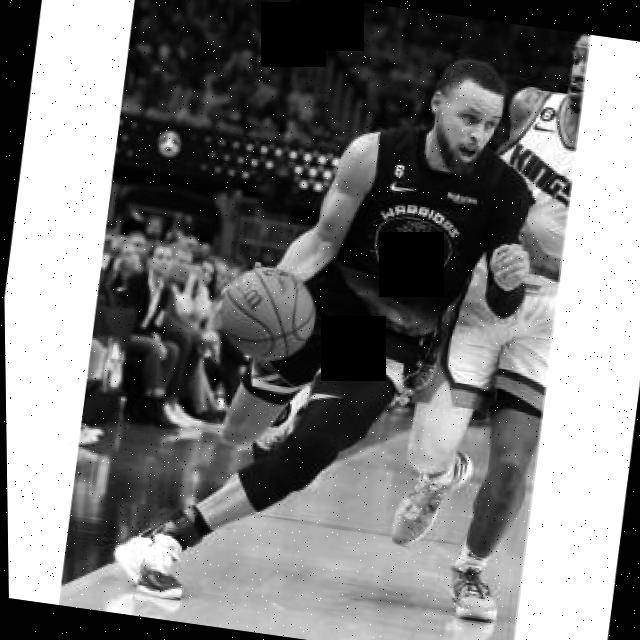shoe: (388, 443, 473, 554), (103, 519, 188, 601), (441, 554, 502, 624)
